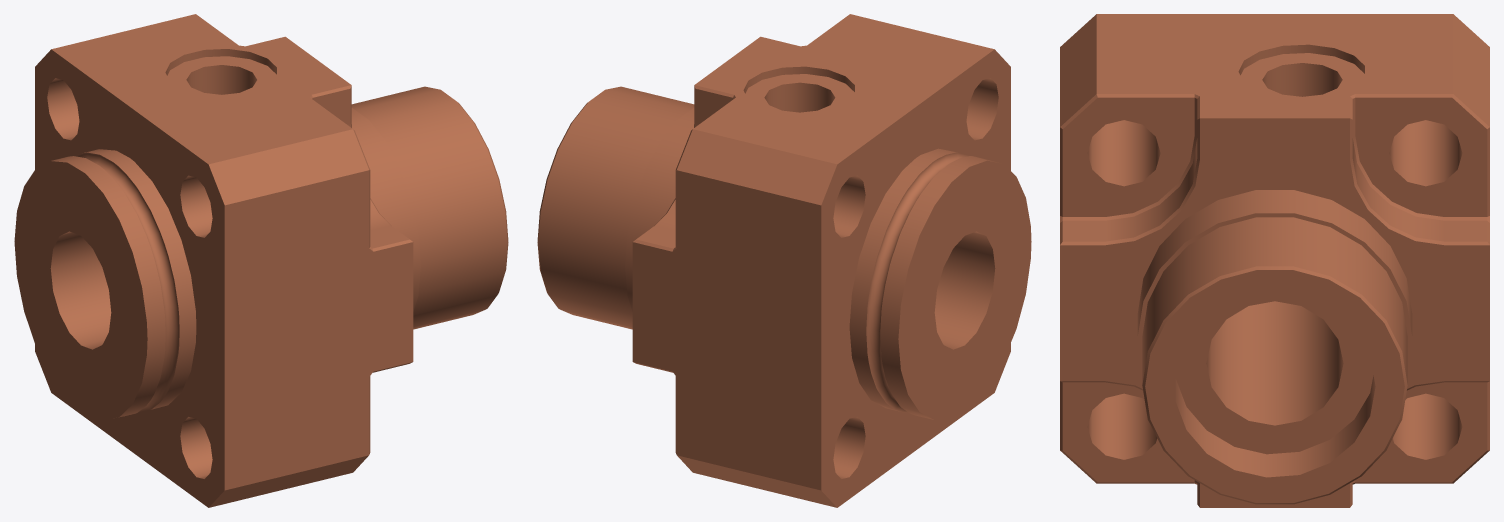
The model's file is Front Plate.glb.
3 views of the same model, side by side, from view 1: azimuth 30°, elevation 25°; view 2: azimuth 150°, elevation 25°; view 3: azimuth 270°, elevation 25° (orthographic). The views are drawn at different scales.
Visible parts, largest first — view 1: Front Plate; view 2: Front Plate; view 3: Front Plate.
Boxes of the visible parts, box(x1,y1,x2,y2) form: Front Plate: box(14, 14, 508, 507); Front Plate: box(537, 14, 1031, 507); Front Plate: box(1060, 14, 1489, 507).
Bounding box in the file's own units: 0.053 × 0.047 × 0.047.
